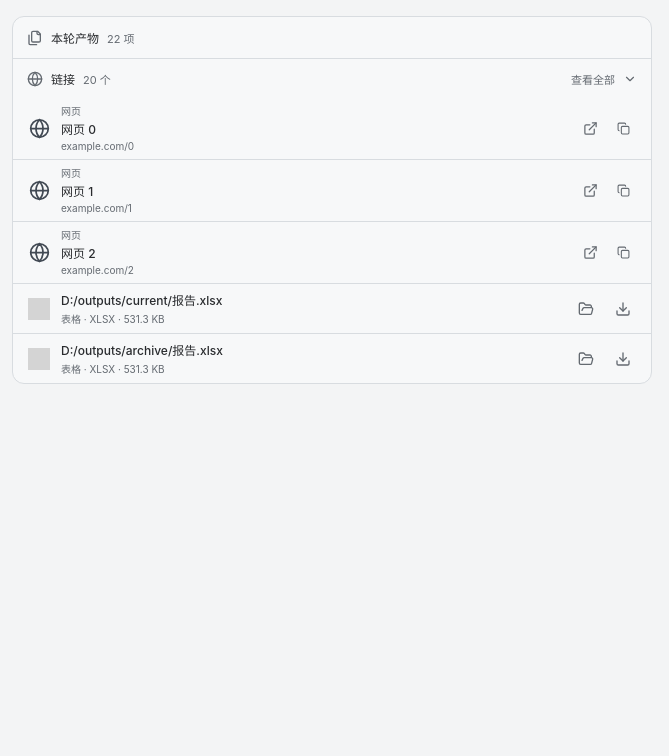
Test: keeps duplicate filenames distinguishable and bounds mixed-link collections
Check: the number of elements with class "artifact-link" is 3, box [13,98,651,159]; [13,159,651,221]; [13,221,651,283]
Click the button with aria-label "展开链接" at (593,80), box [13,59,651,98]
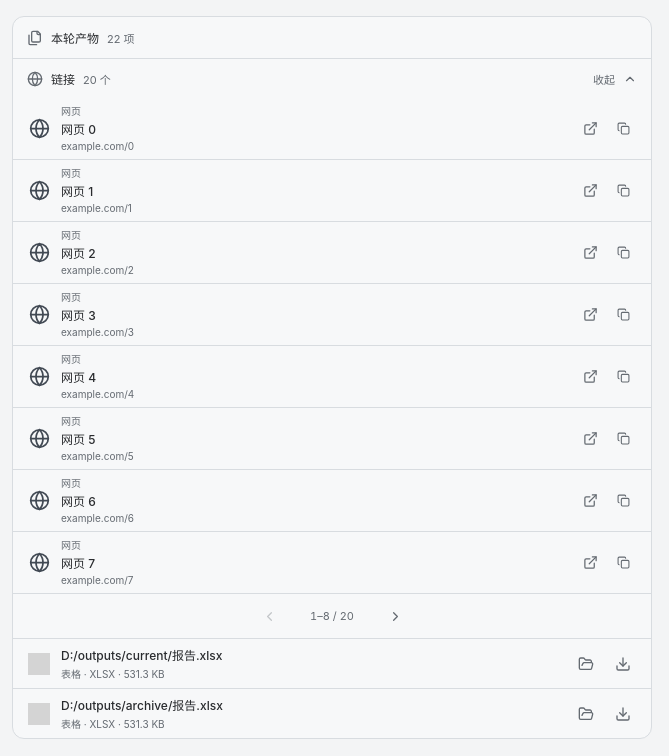
Check: the number of elements with class "artifact-link" is 8
Check: the text "1–8 / 20" is shown, box [310,609,354,623]
